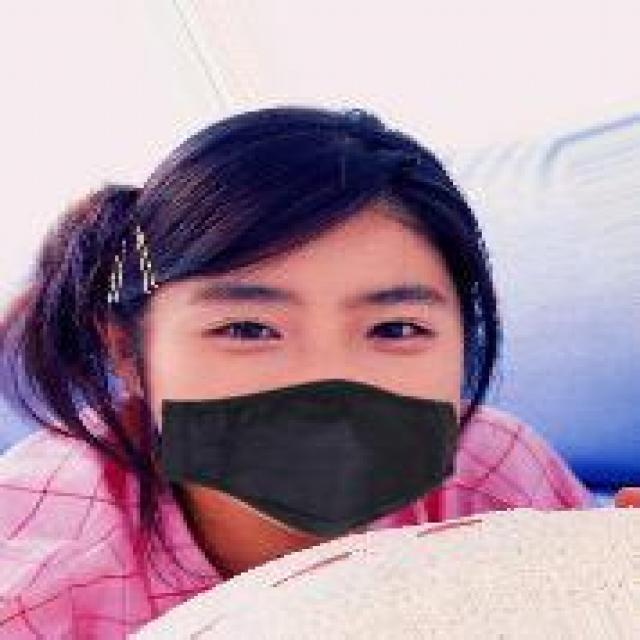mask: (97, 114, 529, 514)
